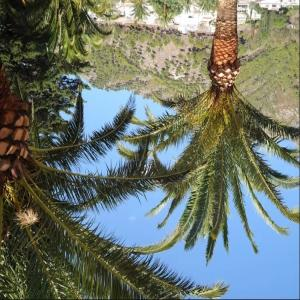palm tree: (0, 0, 230, 299), (118, 0, 300, 266)
